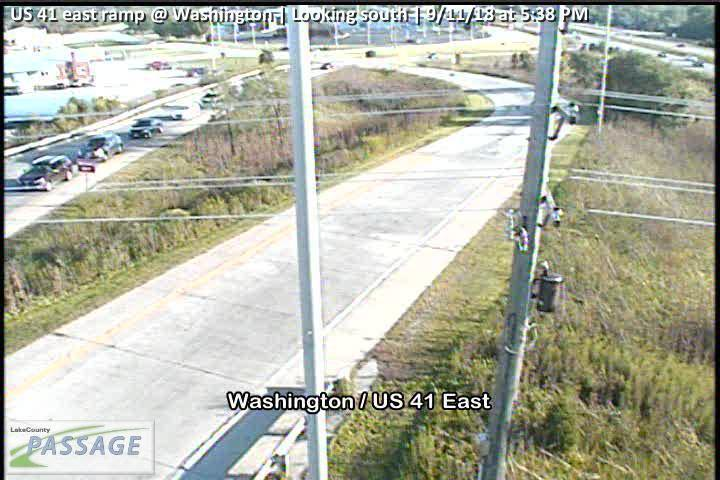SUV: (18, 156, 74, 192), (79, 132, 124, 163)
Sedan: (127, 116, 164, 140)
